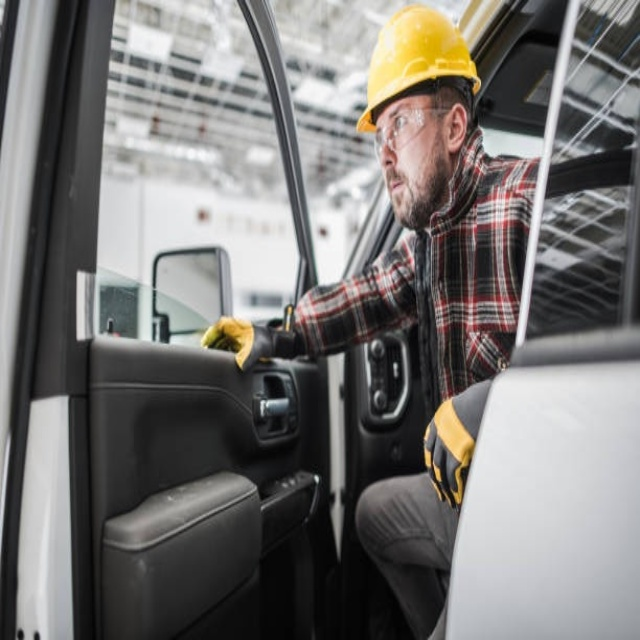Gafas: (374, 105, 455, 163)
Guantes: (421, 395, 476, 509), (200, 315, 263, 370)
Sin_mascara: (383, 169, 427, 218)
